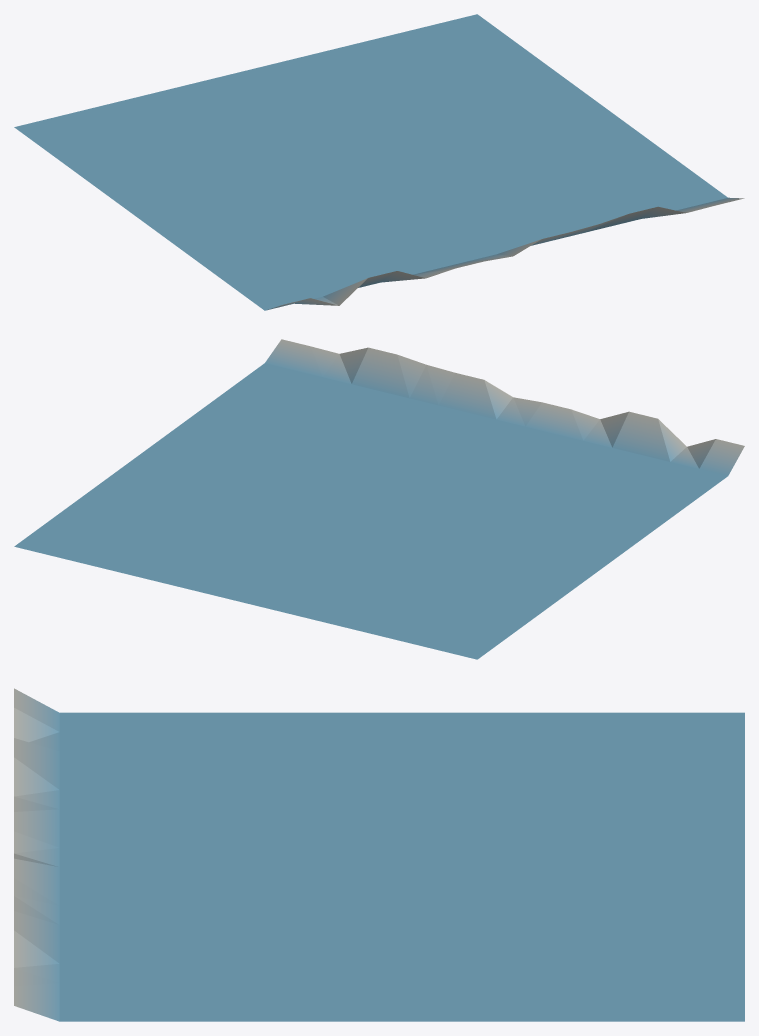
3 renders of one model, top to bottom at view 1: azimuth 30°, elevation 25°; view 2: azimuth 150°, elevation 25°; view 3: azimuth 270°, elevation 25°, orthographic. The views are drawn at different scales.
Size of the model in its own units: 32 by 1.62 by 32.
